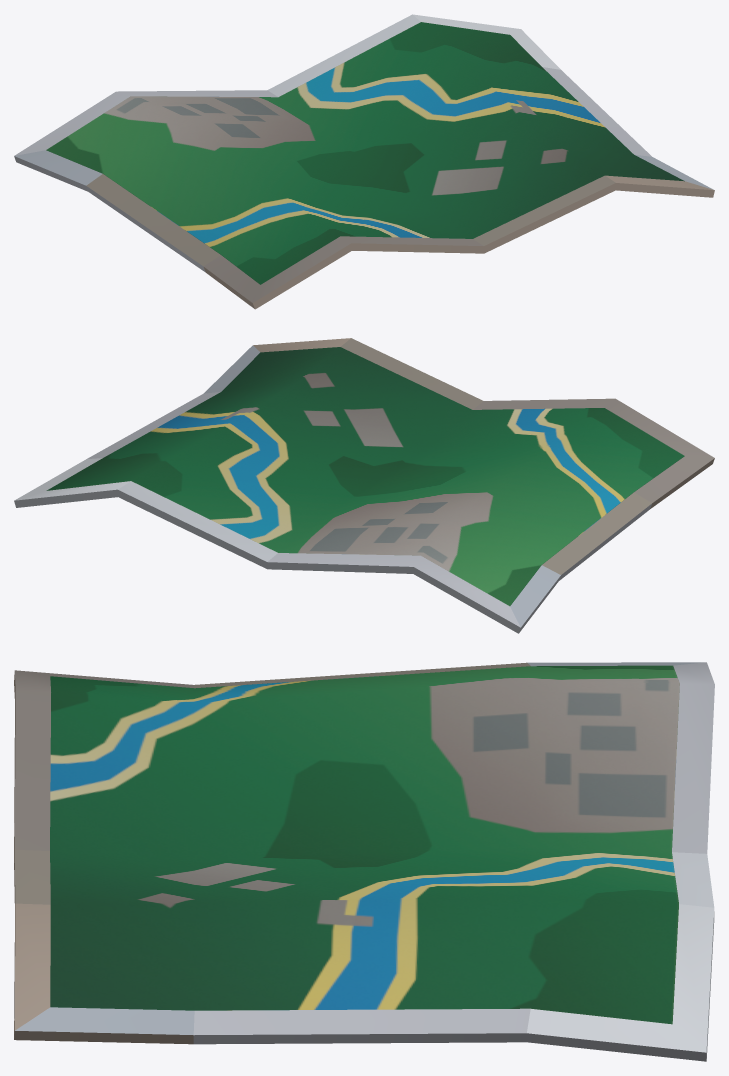
The model's file is mapa_dobrado_pacote.glb.
3 renders of one model, top to bottom at view 1: azimuth 30°, elevation 25°; view 2: azimuth 150°, elevation 25°; view 3: azimuth 270°, elevation 25°, orthographic. The views are drawn at different scales.
Visible parts, largest first — view 1: mapa_dobrado_pacote; view 2: mapa_dobrado_pacote; view 3: mapa_dobrado_pacote.
Part boxes in pixels (left/top/right/bottom): mapa_dobrado_pacote: left=14, top=14, right=714, bottom=309; mapa_dobrado_pacote: left=14, top=338, right=714, bottom=633; mapa_dobrado_pacote: left=14, top=662, right=714, bottom=1061.
Bounding box in the file's own units: 0.7425 × 0.0736 × 0.5561.
Materials: 2 (2 with a texture image).
